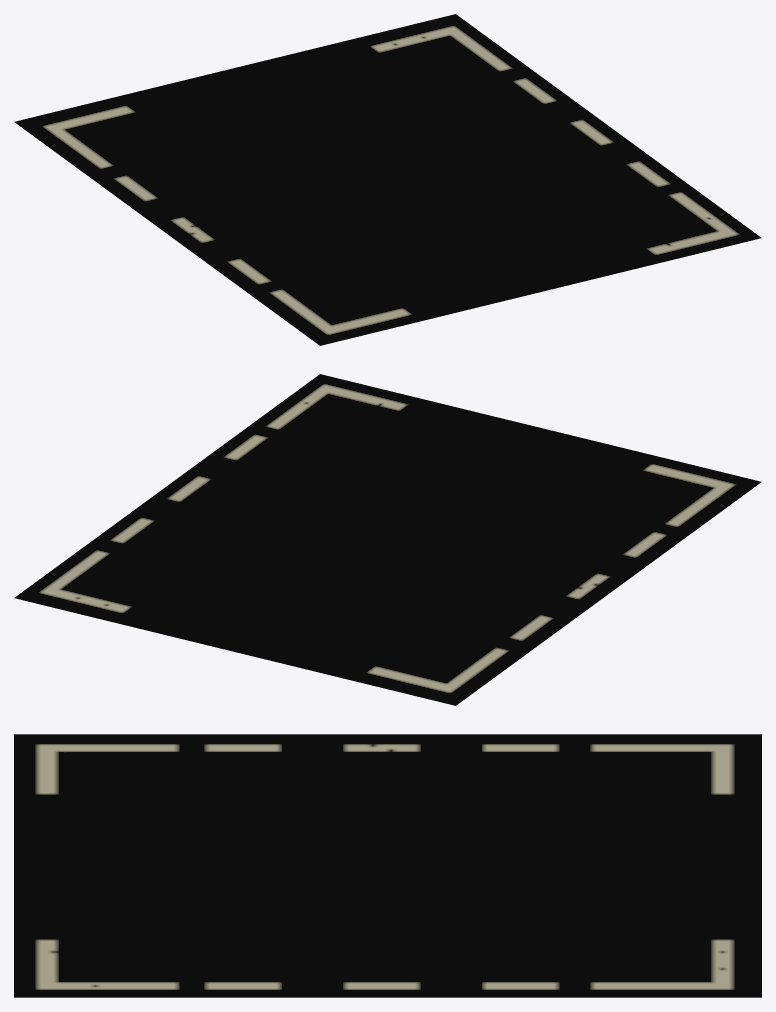
Rendered from ParkingDecal.fbx.
3 renders of one model, top to bottom at view 1: azimuth 30°, elevation 25°; view 2: azimuth 150°, elevation 25°; view 3: azimuth 270°, elevation 25°, orthographic. The views are drawn at different scales.
Parts seen in each view (by area): view 1: ParkingDecal; view 2: ParkingDecal; view 3: ParkingDecal.
Part boxes in pixels (box(x1,y1,x2,y2)): ParkingDecal: box(14, 14, 761, 345); ParkingDecal: box(14, 374, 761, 705); ParkingDecal: box(14, 734, 761, 997).
Size of the model in its own units: 1000 by 0 by 1200.
